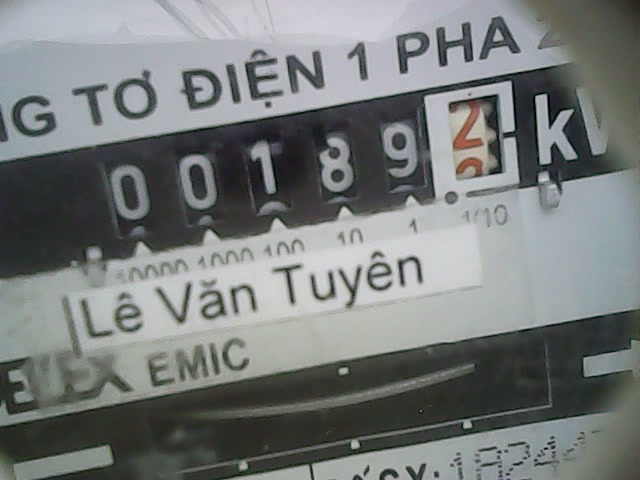phy_plate: (71, 75, 530, 242)
